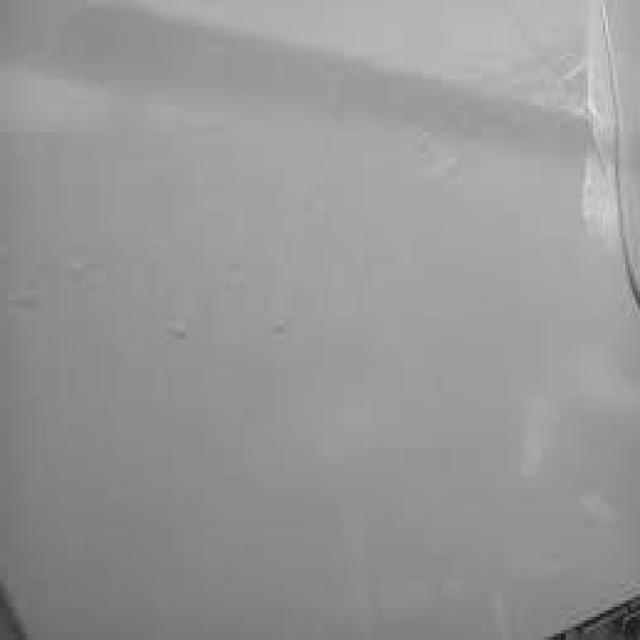paint drips: (406, 0, 640, 340), (146, 223, 322, 396), (16, 215, 115, 332)
